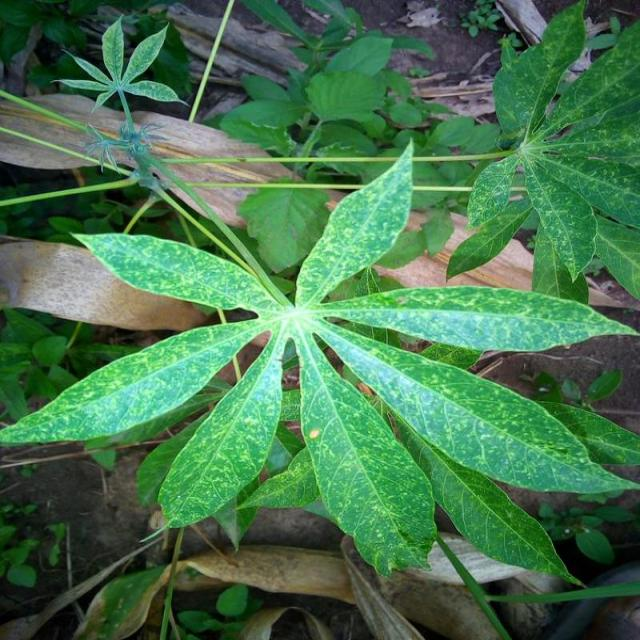cassava leaf: (1, 137, 638, 588)
